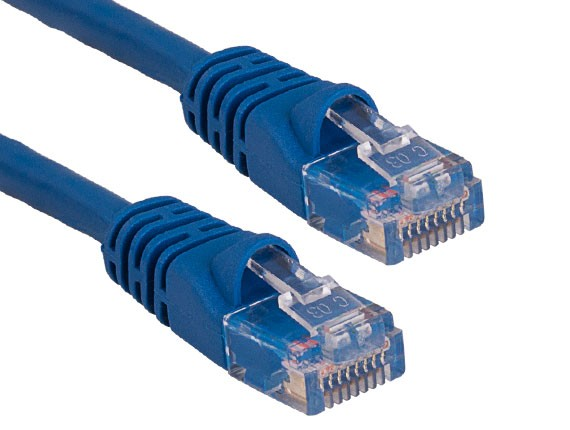Nonrec_Tangler: (13, 1, 495, 381)
